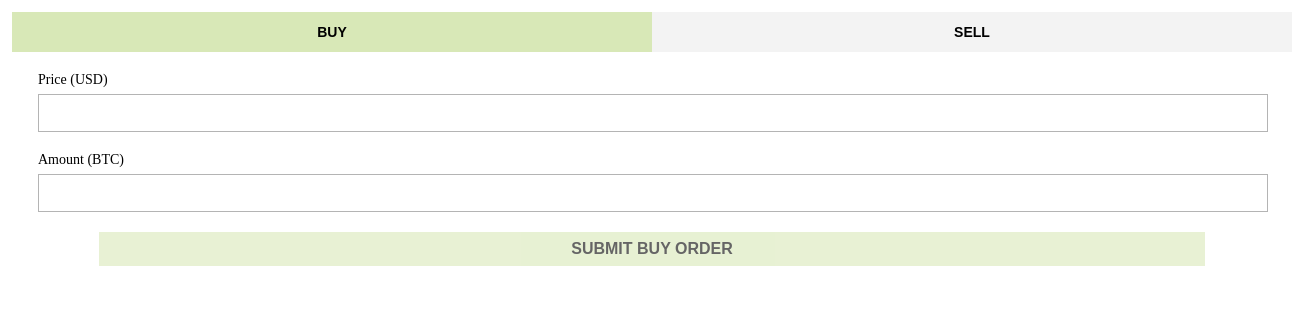
Test case: CreateOrderForm › Should display error message when order fails to be created
Click the button with test id "ASK".
click(972, 32)  # box [652, 12, 1292, 52]
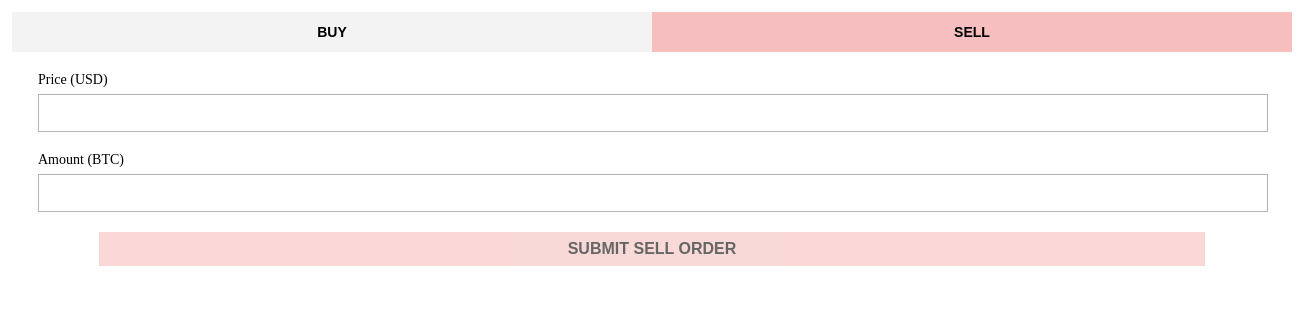
Type "1000" into the field with test id "priceInput".
click(653, 113); type("1000")  # box [38, 94, 1268, 132]
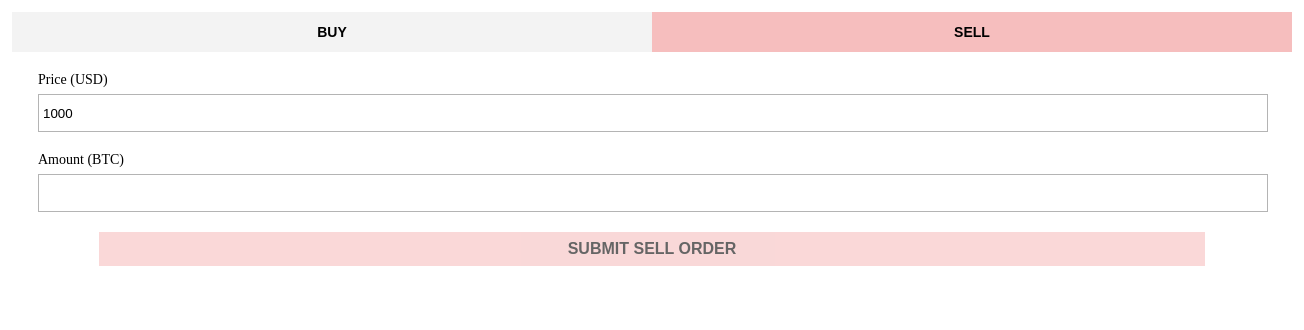
Type "1" into the field with test id "volumeInput".
click(653, 193); type("1")  # box [38, 174, 1268, 212]
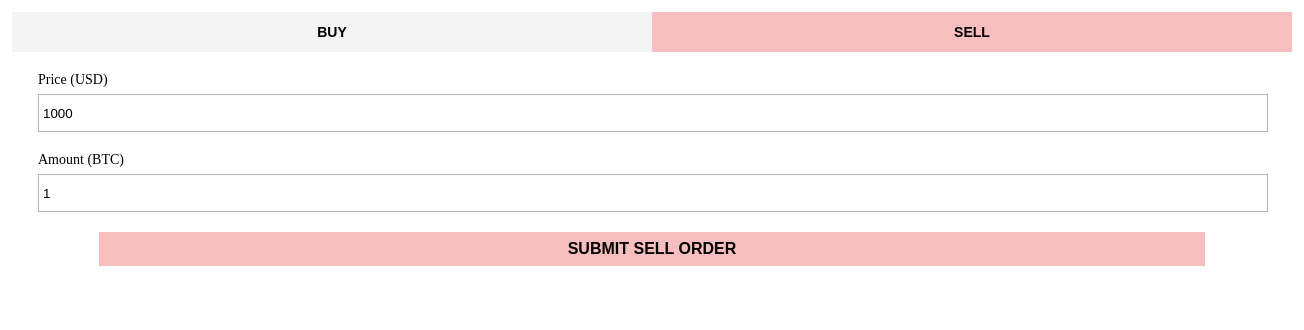
Click the button with test id "submitOrderButton".
click(652, 249)  # box [99, 232, 1205, 266]
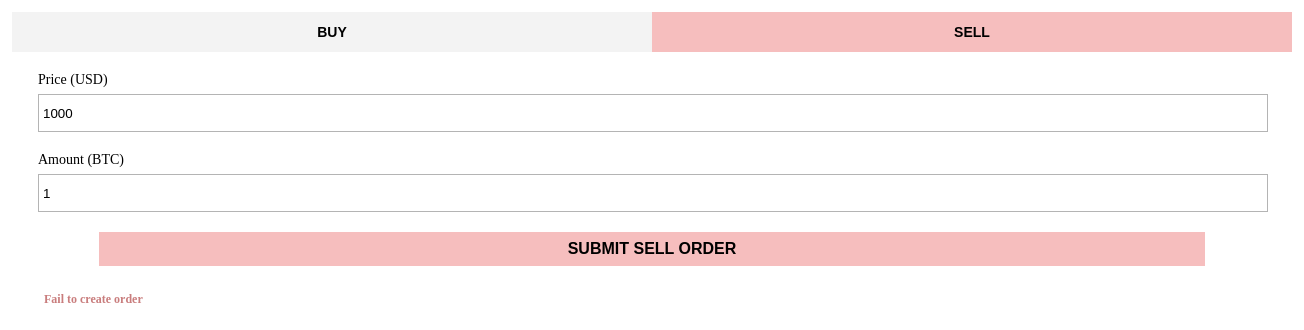
Check: the text "Fail to create order" is shown, box [38, 286, 1266, 313]
